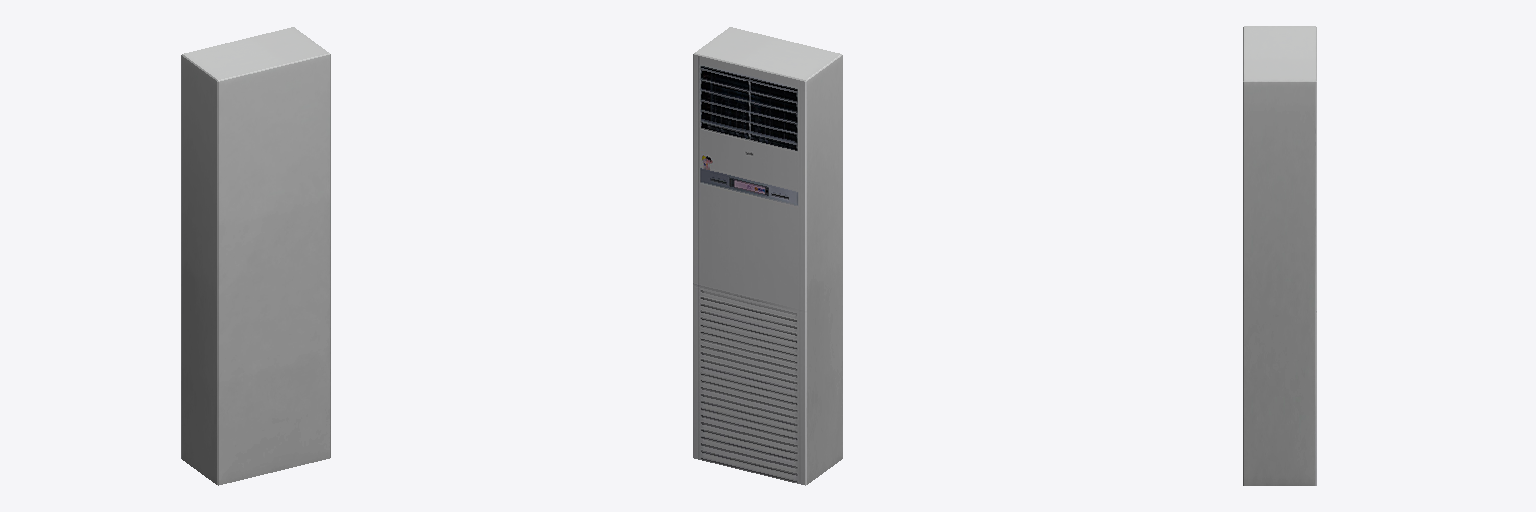
The picture shows the model from 3 angles: view 1: azimuth 30°, elevation 25°; view 2: azimuth 150°, elevation 25°; view 3: azimuth 270°, elevation 25°; orthographic projection.
Visible parts, largest first — view 1: kongtiao_01_1; view 2: kongtiao_01_1; view 3: kongtiao_01_1.
Part boxes in pixels (bbox=[...]): kongtiao_01_1: bbox=[181, 27, 330, 485]; kongtiao_01_1: bbox=[693, 27, 842, 485]; kongtiao_01_1: bbox=[1243, 26, 1316, 485].
Size of the model in its own units: 52.97 by 181 by 29.98.
Materials: 1 (1 with a texture image).